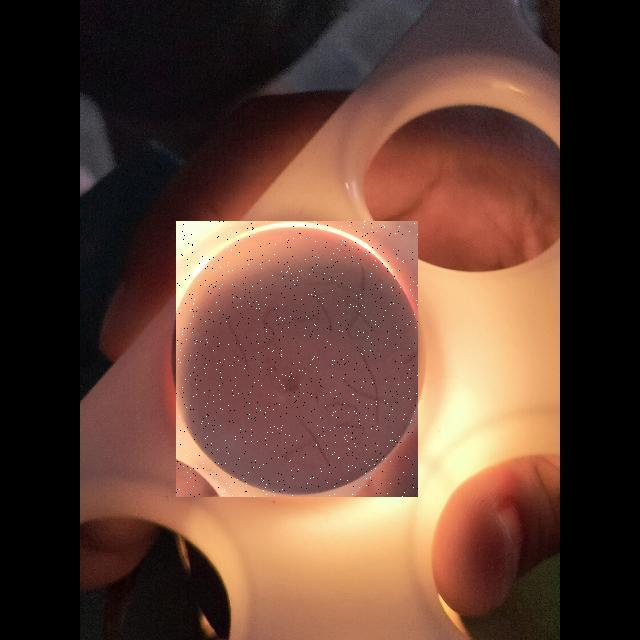AA - Premium: (178, 219, 413, 496)
